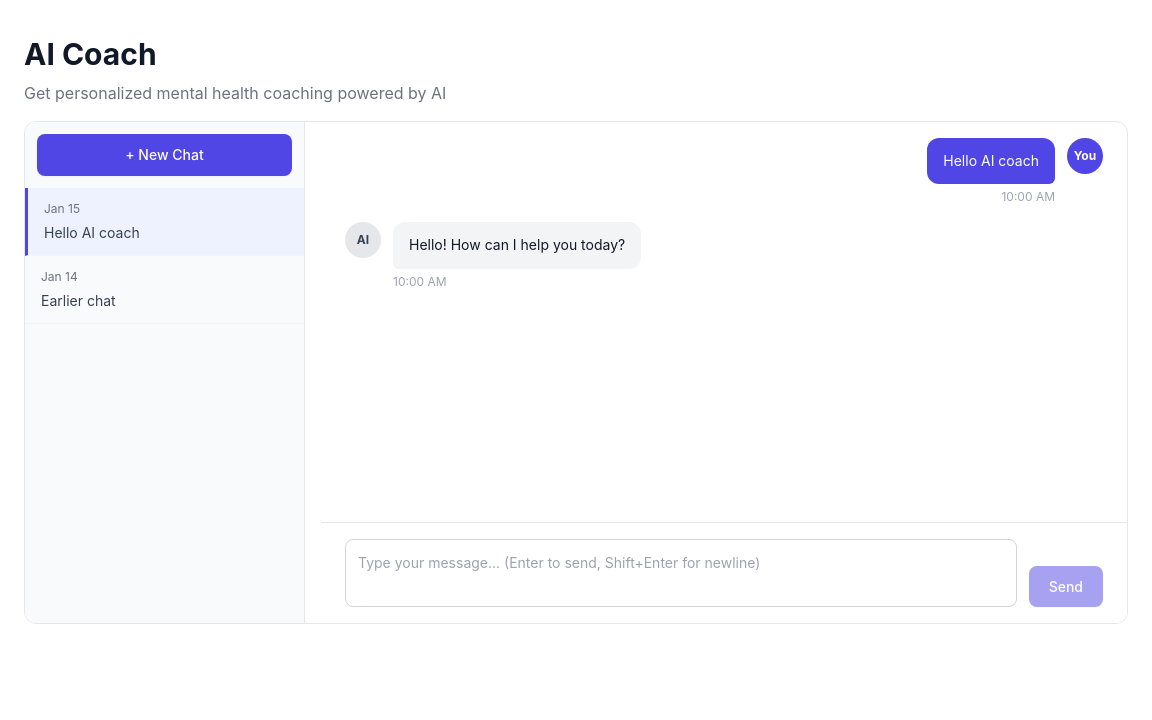
Test: ChatView › loads another conversation when a sidebar item is clicked
What coordinates should you click on to do the following:
click the element with class "conversation-item" showing "Jan 14 Earlier chat"
I would click on:
 (164, 290)
Its box is [25,256,304,324].
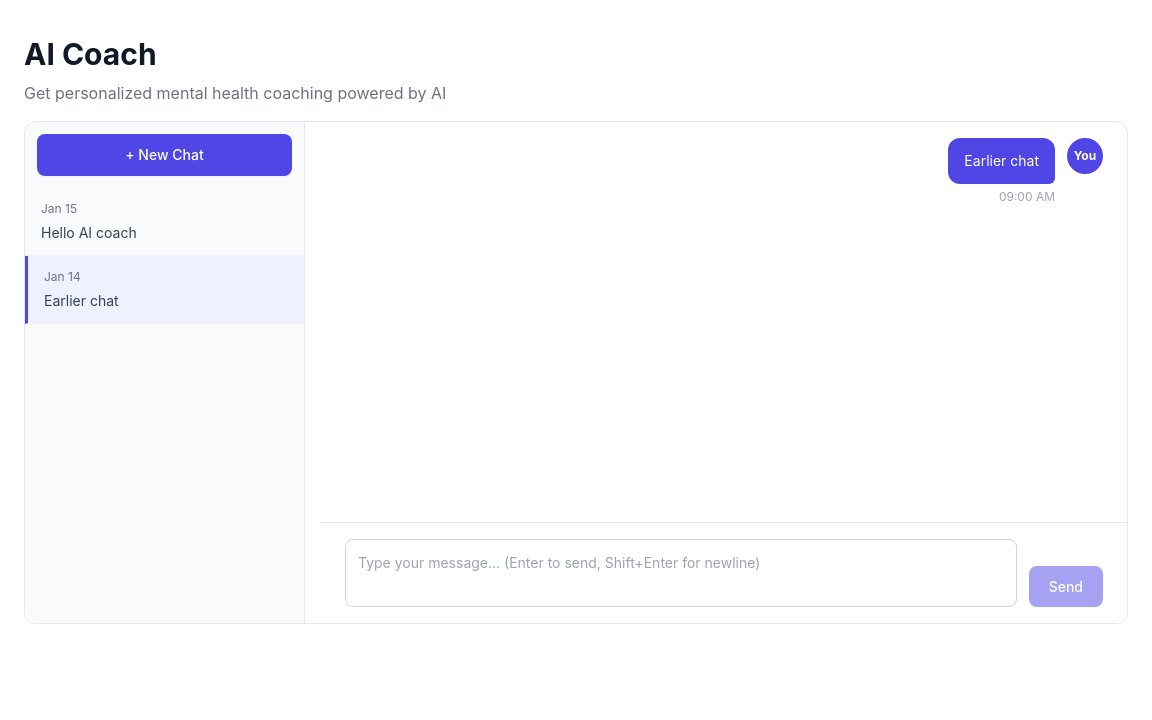
Expected: the number of elements with class "message" is 1, [948,138,1103,206]
Expected: the element with class "message" shows "Earlier chat", [964,152,1039,169]
